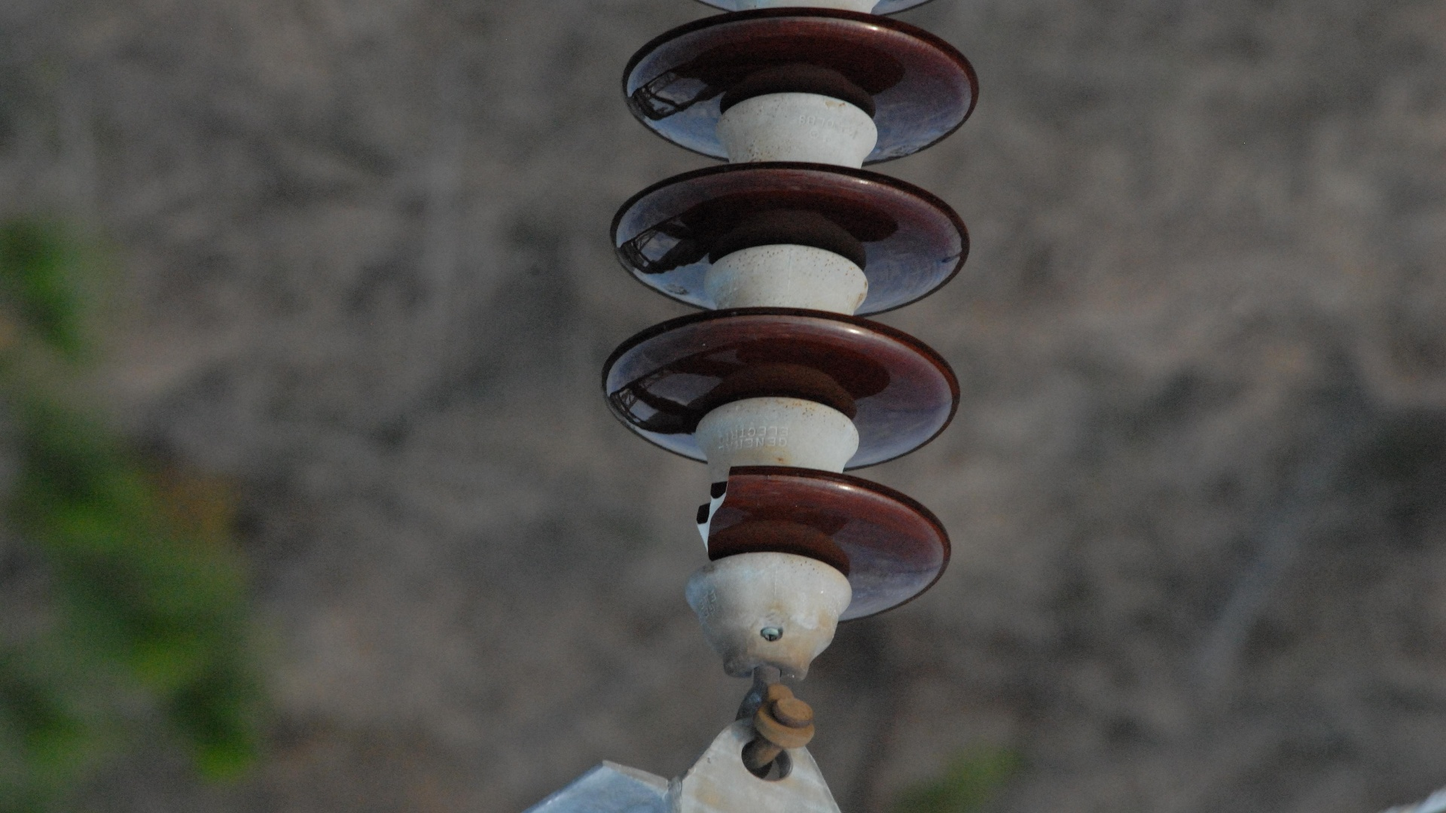insulator: (590, 1, 989, 633)
insulator_breakage: (688, 461, 742, 565)
